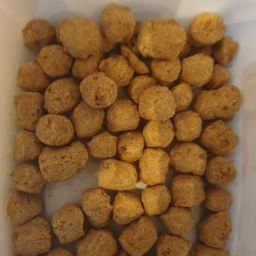Glycine max(soyabean): (5, 5, 256, 256)
